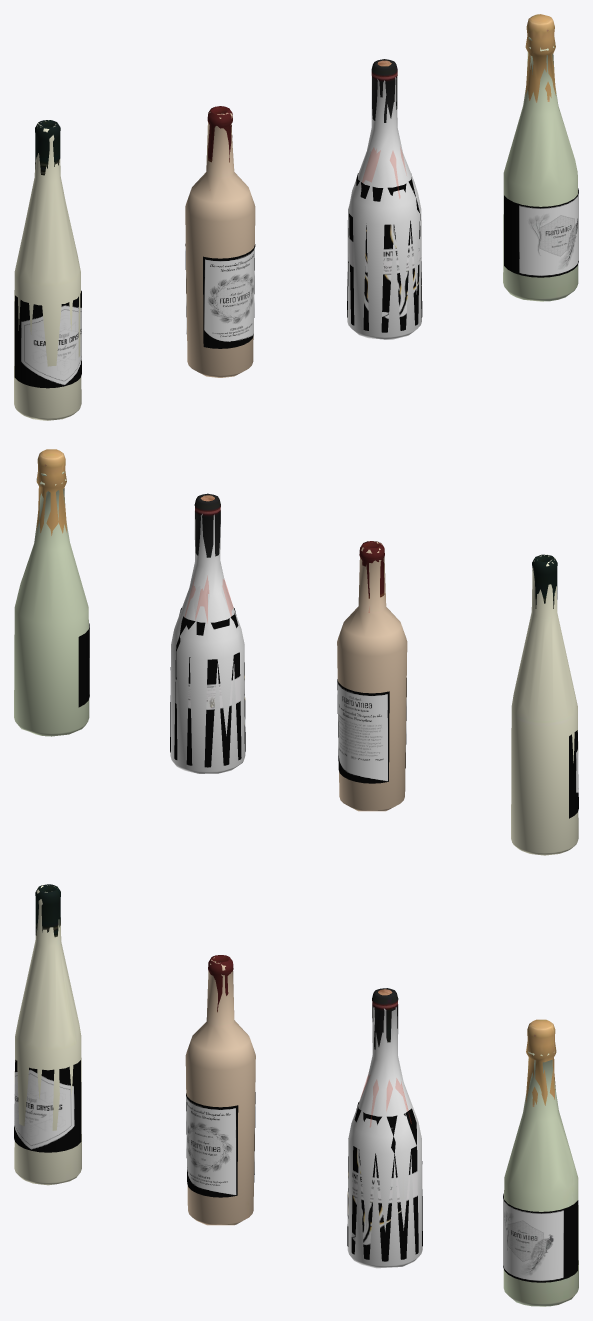
Rendered from bottles.glb.
3 renders of one model, top to bottom at view 1: azimuth 30°, elevation 25°; view 2: azimuth 150°, elevation 25°; view 3: azimuth 330°, elevation 25°, orthographic.
Parts seen in each view (by area): view 1: wine_bottles_01_bordeaux, wine_bottles_01_champagne, wine_bottles_01_alsace, wine_bottles_01_burgundy; view 2: wine_bottles_01_bordeaux, wine_bottles_01_burgundy, wine_bottles_01_champagne, wine_bottles_01_alsace; view 3: wine_bottles_01_bordeaux, wine_bottles_01_champagne, wine_bottles_01_alsace, wine_bottles_01_burgundy.
Boxes of the visible parts, bbox=[...] form: wine_bottles_01_bordeaux: bbox=[14, 14, 578, 420]; wine_bottles_01_champagne: bbox=[504, 188, 578, 277]; wine_bottles_01_alsace: bbox=[14, 290, 81, 388]; wine_bottles_01_burgundy: bbox=[347, 148, 422, 332]; wine_bottles_01_bordeaux: bbox=[14, 449, 578, 855]; wine_bottles_01_burgundy: bbox=[170, 577, 245, 767]; wine_bottles_01_champagne: bbox=[78, 623, 89, 707]; wine_bottles_01_alsace: bbox=[569, 730, 578, 818]; wine_bottles_01_bordeaux: bbox=[14, 884, 578, 1306]; wine_bottles_01_champagne: bbox=[503, 1193, 578, 1282]; wine_bottles_01_alsace: bbox=[14, 1060, 81, 1152]; wine_bottles_01_burgundy: bbox=[347, 1075, 422, 1261].
Size of the model in its own units: 0.6763 by 0.3314 by 0.0801.
9 materials, 6 textured.
